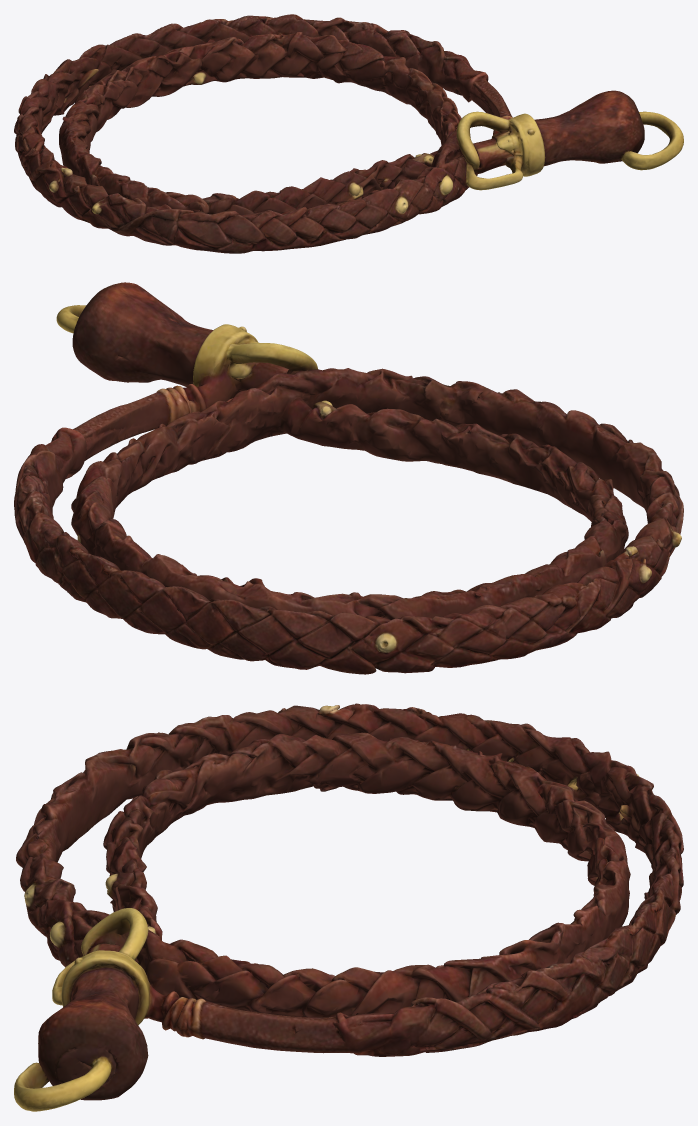
The model's file is lash.glb.
3 renders of one model, top to bottom at view 1: azimuth 30°, elevation 25°; view 2: azimuth 150°, elevation 25°; view 3: azimuth 270°, elevation 25°, orthographic. The views are drawn at different scales.
Visible parts, largest first — view 1: tripo_node_fe116bf6-00a6-43ce-b193-52da3e2af142; view 2: tripo_node_fe116bf6-00a6-43ce-b193-52da3e2af142; view 3: tripo_node_fe116bf6-00a6-43ce-b193-52da3e2af142.
Boxes of the visible parts, x1=… form: tripo_node_fe116bf6-00a6-43ce-b193-52da3e2af142: x1=14, y1=14, x2=683, y2=253; tripo_node_fe116bf6-00a6-43ce-b193-52da3e2af142: x1=14, y1=282, x2=683, y2=674; tripo_node_fe116bf6-00a6-43ce-b193-52da3e2af142: x1=14, y1=703, x2=683, y2=1111.
Size of the model in its own units: 0.9998 by 0.1155 by 0.748.
Materials: 1 (1 with a texture image).
